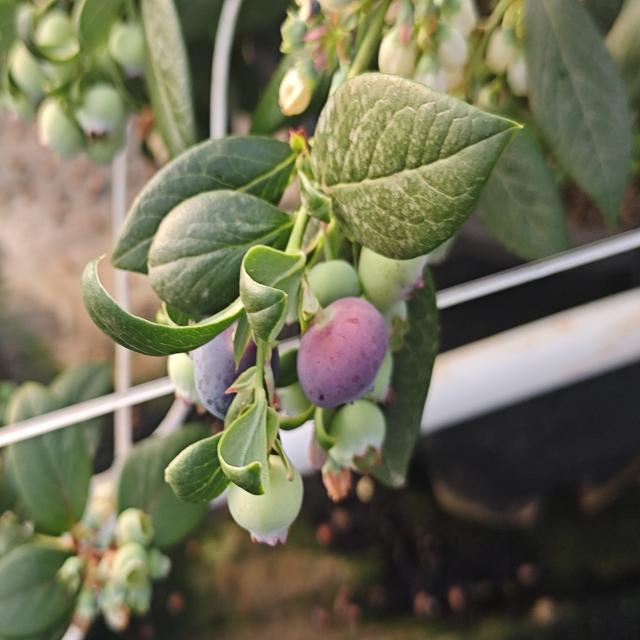ripe: (288, 302, 394, 398), (192, 342, 232, 410)
